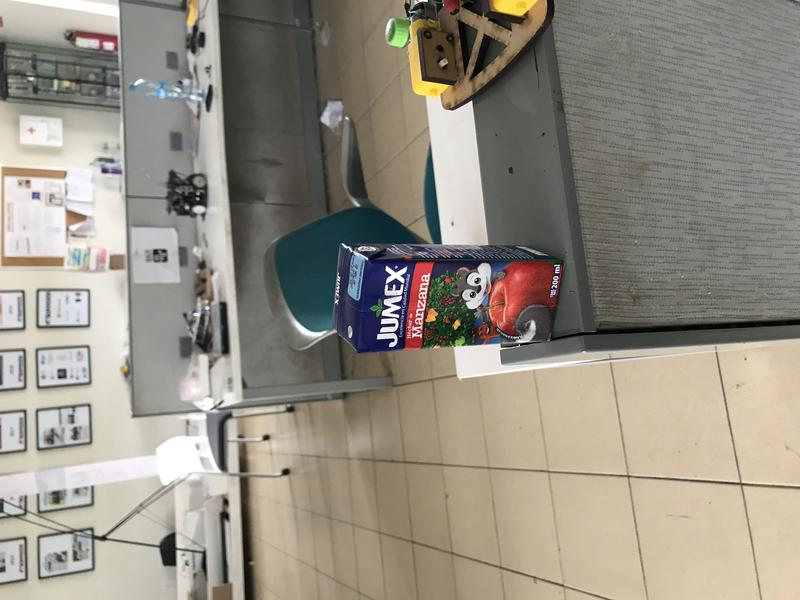jumex_cajita: (334, 240, 565, 354)
